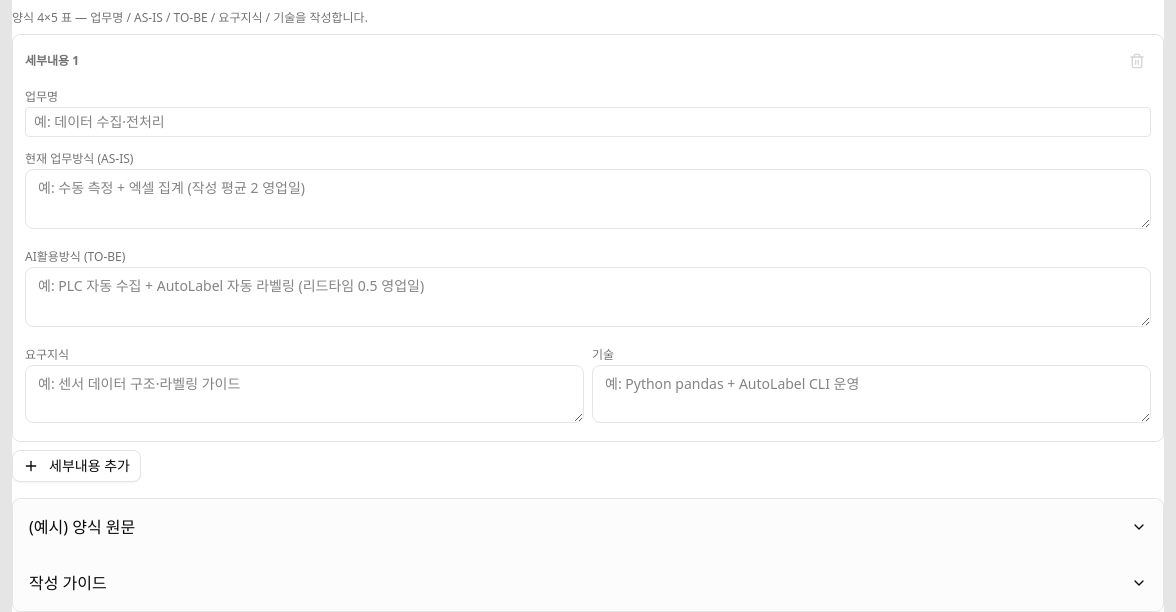
Test case: StepTarget (Ⅲ-3 훈련대상 업무 — 로드맵 과업 연동) › 작성 가이드에 정본 원문(번호·-·☞)을 그대로 표시한다
The image size is (1176, 612).
(page scrolled)
Click the button "작성 가이드": (68, 583) [29,555,1147,611]
(page scrolled)
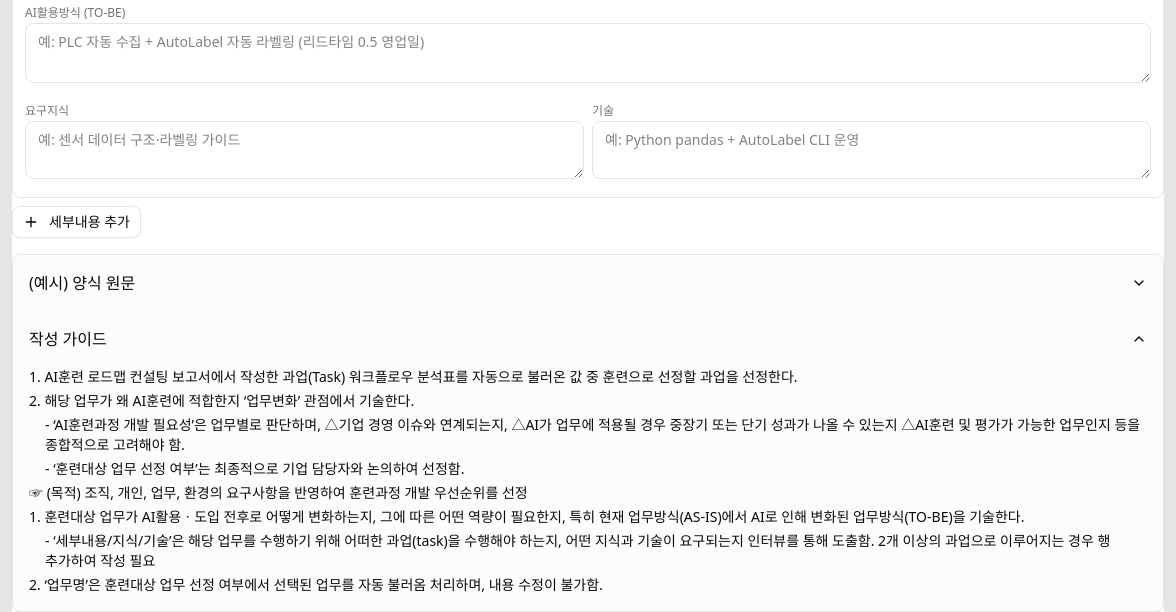
Now the list item "1. AI훈련 로드맵 컨설팅 보고서에서 작성한 과업(Task) 워크플로우 분석표를 자동으로 불러온 값 중 훈련으로 선정할 과업을 선정한다." is shown, box [29,367,798,386]
Now the list item "☞ (목적) 조직, 개인, 업무, 환경의 요구사항을 반영하여 훈련과정 개발 우선순위를 선정" is shown, box [29,483,528,502]
